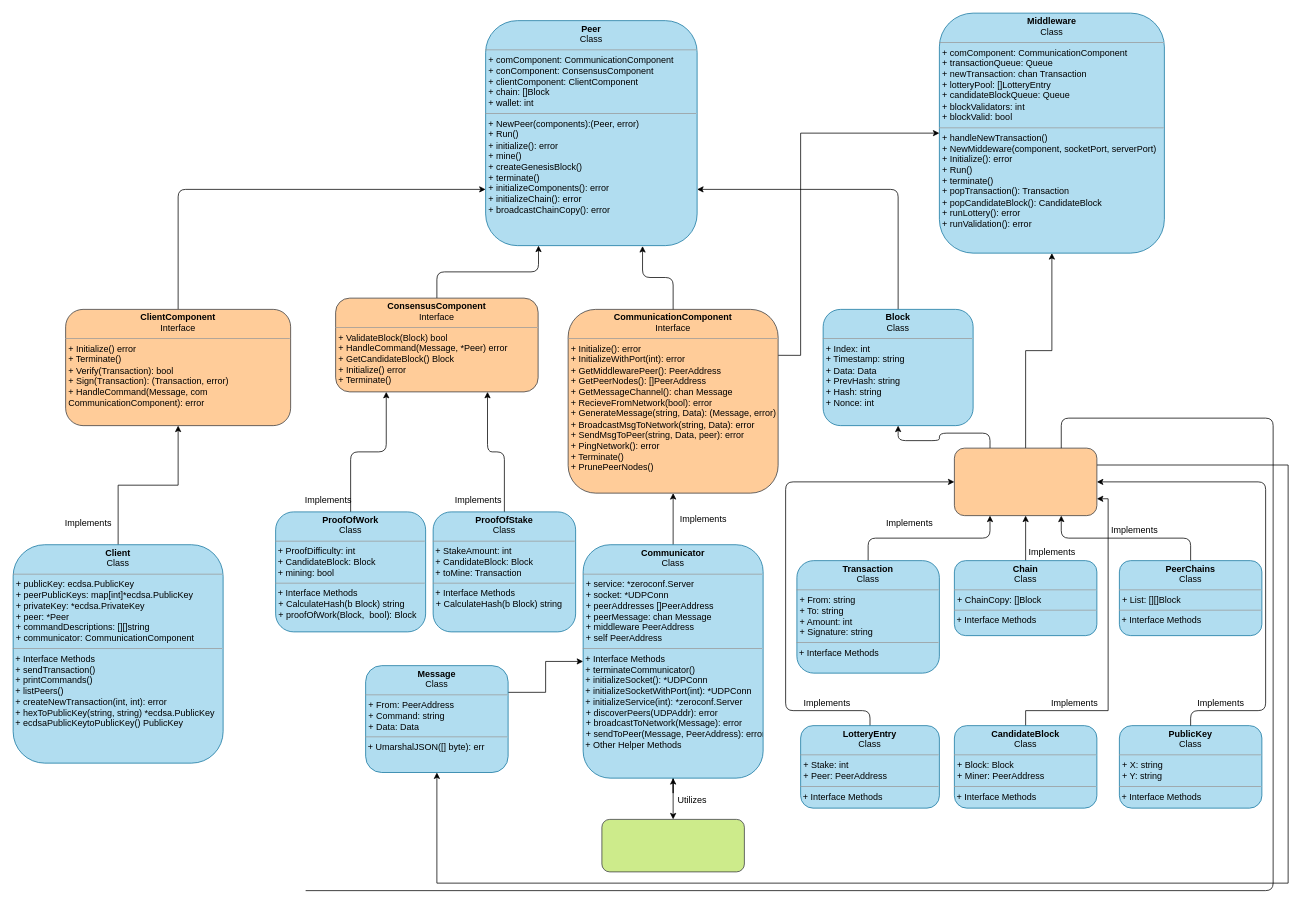
This 1307x905 diagram has some shape labels left out. Here are the shapes that lost their labels. From the top down, the box of each, then its label:
(954, 447, 1097, 516): Data Interface + GetData(): Data + ToString(): string
(601, 819, 744, 872): ZeroConf Library
